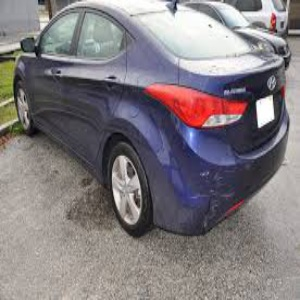bumper_scratch: (183, 160, 240, 235)
